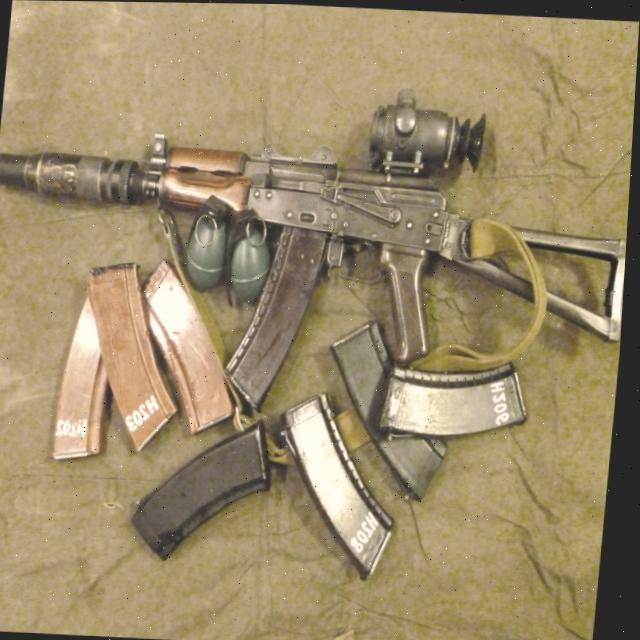firearm: (0, 65, 637, 431)
grenade: (221, 203, 277, 310), (184, 191, 232, 287)
